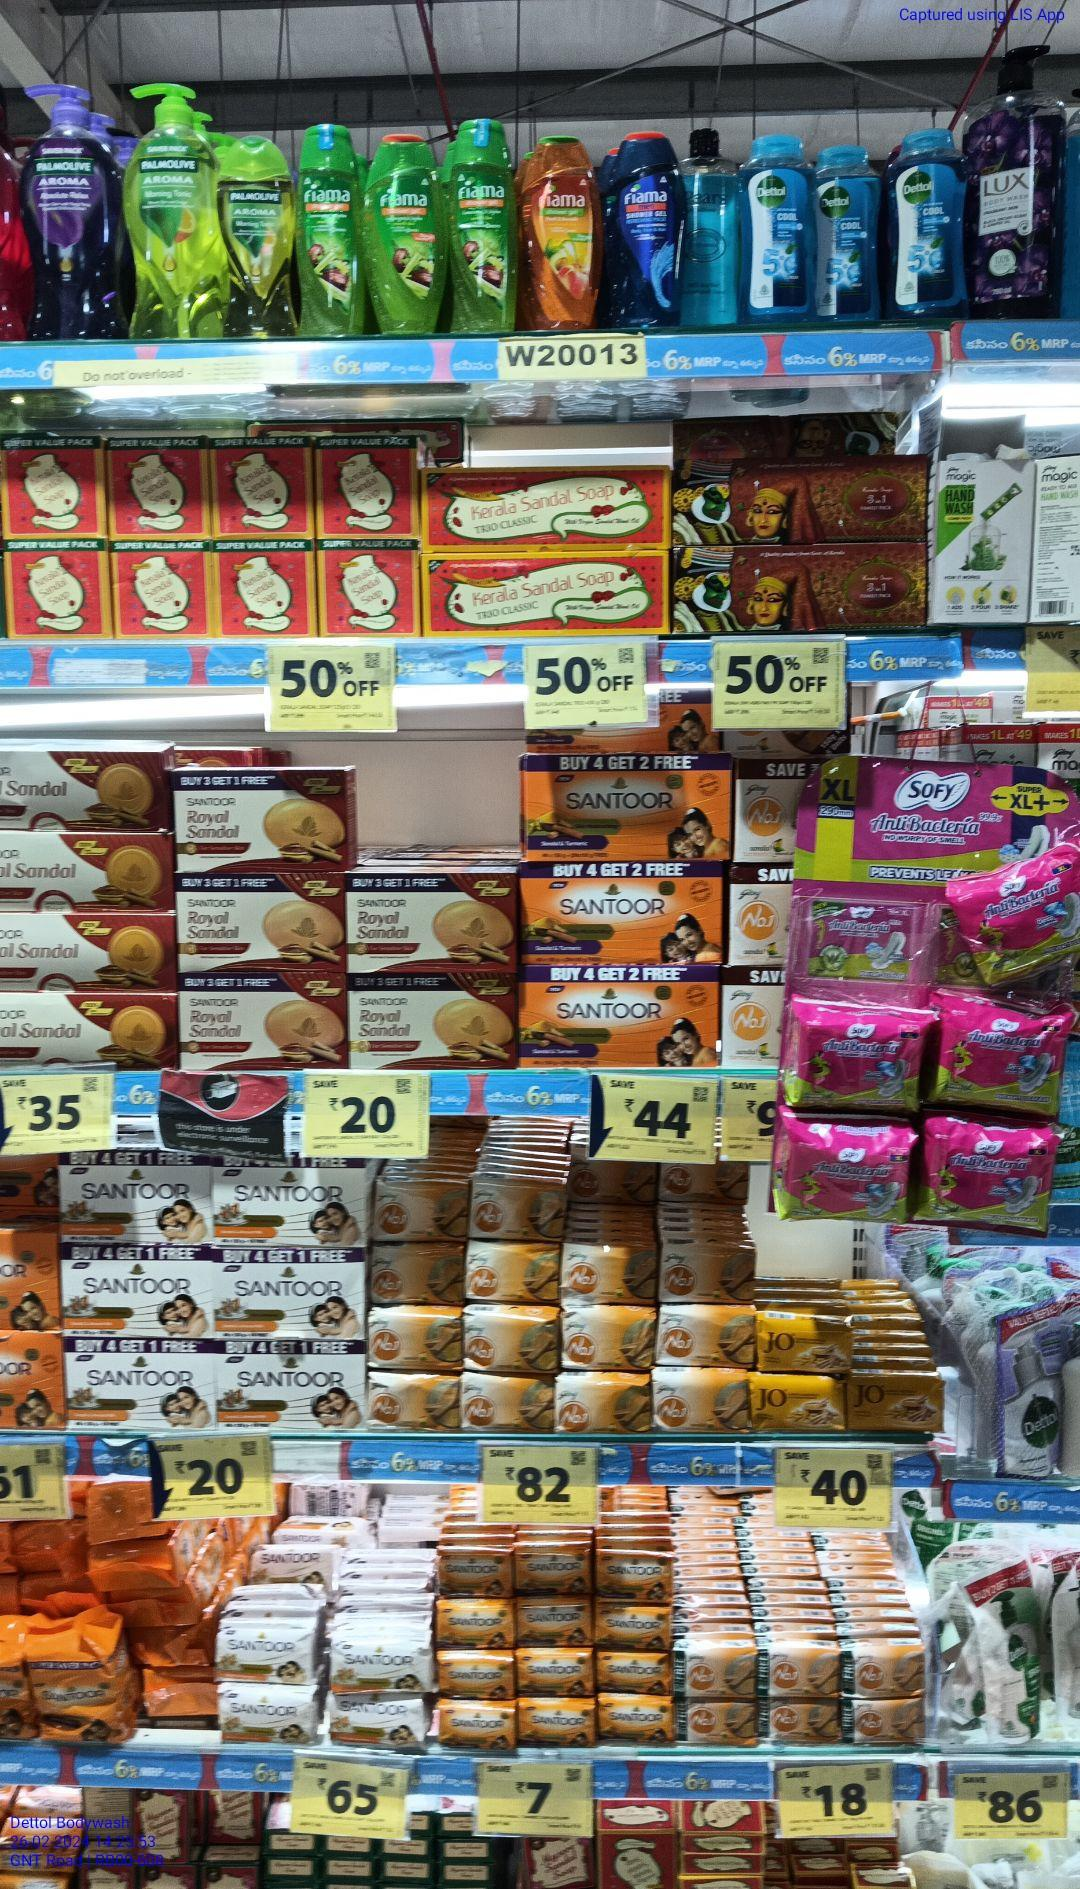Dettol_Bodywash_Cool: (894, 122, 970, 317), (742, 130, 816, 323), (820, 144, 885, 322)
Fiama_Shower_Gel_Lemongrass_and_Jojoba_250ML: (447, 119, 523, 336), (369, 130, 447, 335), (295, 115, 365, 333)
Fiama_Shower_Gel_Peach_and_Avocado_250ML: (527, 135, 602, 333)
